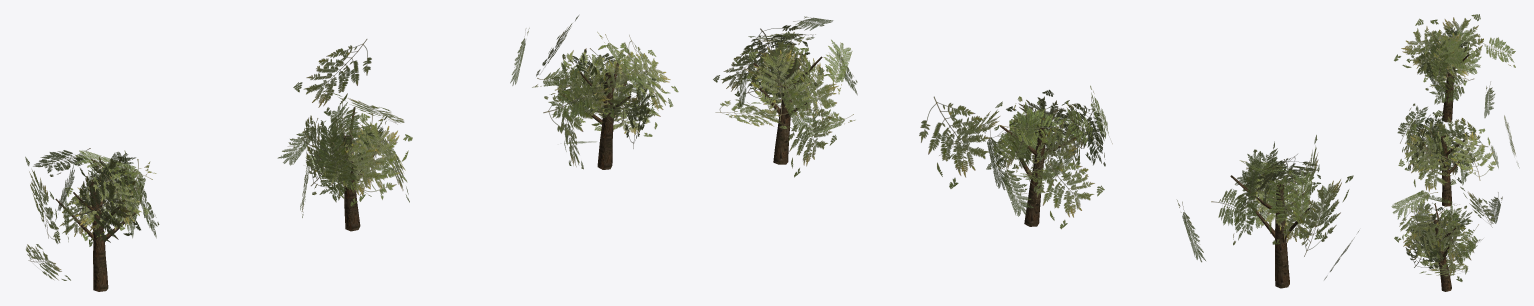
The model's file is tree_broadleaf_lod.glb.
The picture shows the model from 3 angles, left to right: view 1: azimuth 30°, elevation 25°; view 2: azimuth 150°, elevation 25°; view 3: azimuth 270°, elevation 25°; orthographic projection. The views are drawn at different scales.
Visible parts, largest first — view 1: variant_1, variant_2, variant_0; view 2: variant_1, variant_2, variant_0; view 3: variant_2, variant_1, variant_0.
Part boxes in pixels (left/top/right/bottom): variant_1: left=277, top=39, right=412, bottom=231; variant_2: left=510, top=15, right=678, bottom=169; variant_0: left=25, top=148, right=159, bottom=291; variant_1: left=919, top=85, right=1112, bottom=229; variant_2: left=713, top=16, right=857, bottom=177; variant_0: left=1176, top=135, right=1359, bottom=288; variant_2: left=1391, top=184, right=1502, bottom=291; variant_1: left=1397, top=103, right=1519, bottom=206; variant_0: left=1394, top=14, right=1515, bottom=122.
Bounding box in the file's own units: 30.7 × 7.52 × 7.79.
2 materials, 2 textured.
